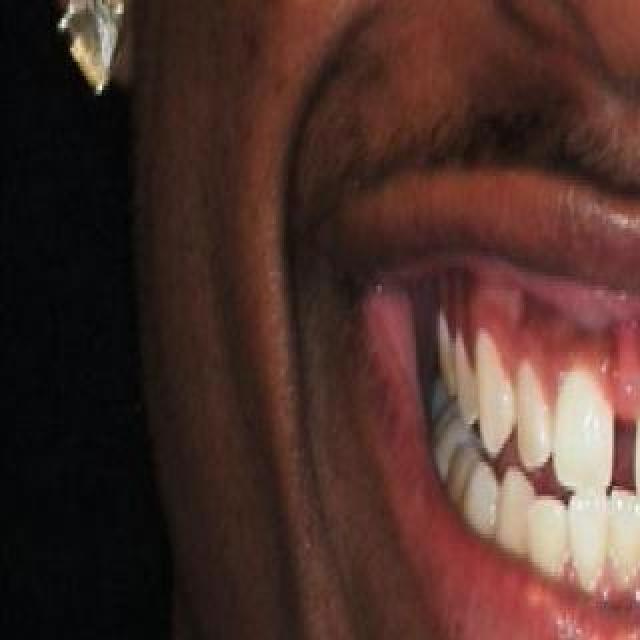maligned: (526, 492, 576, 586), (563, 484, 599, 606), (499, 467, 541, 565), (608, 486, 640, 594)
spacing: (592, 416, 640, 492)
